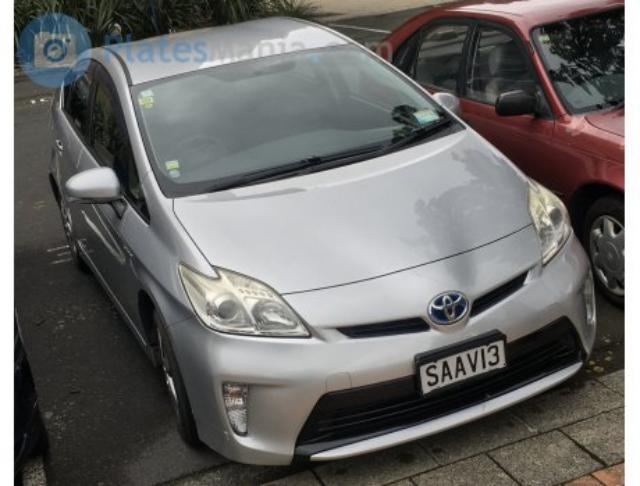Rego: (419, 341, 506, 396)
